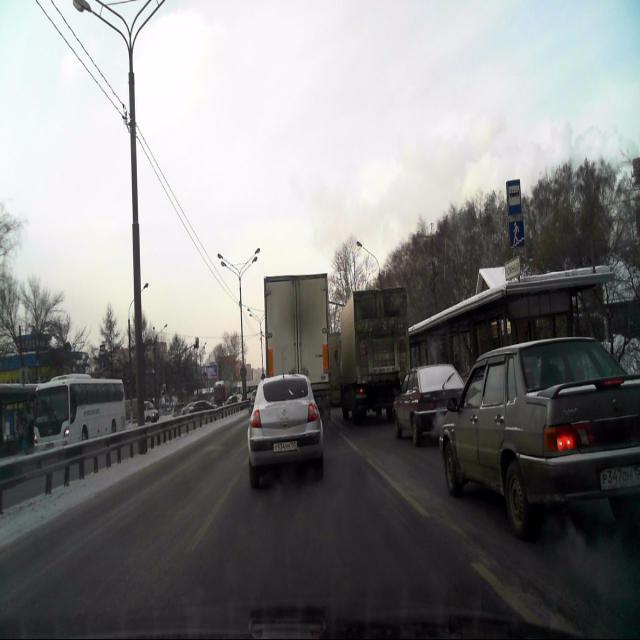road sign: (506, 178, 522, 216), (508, 220, 524, 248)
